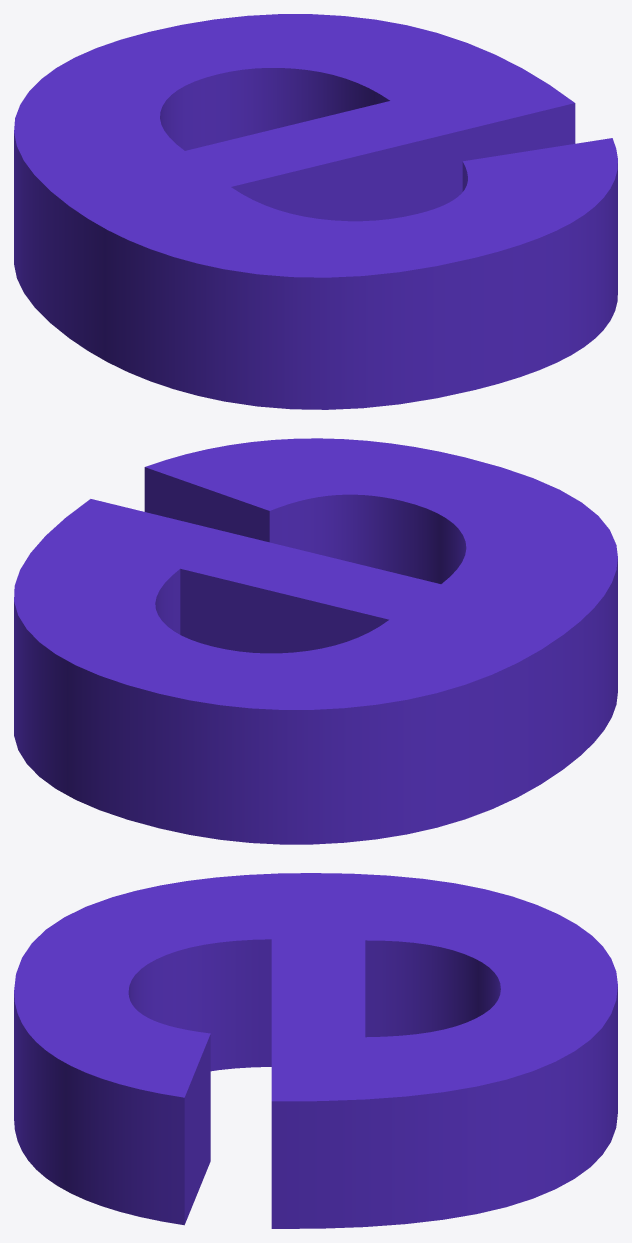
File: huruf e biasa.FBX
3 views of the same model, one above another, from view 1: azimuth 30°, elevation 25°; view 2: azimuth 150°, elevation 25°; view 3: azimuth 270°, elevation 25° (orthographic). The views are drawn at different scales.
Parts seen in each view (by area): view 1: Text001; view 2: Text001; view 3: Text001.
Boxes of the visible parts, box(x1,y1,x2,y2) form: Text001: box(14, 14, 617, 409); Text001: box(14, 438, 617, 844); Text001: box(14, 873, 617, 1228).
Size of the model in its own units: 24.96 by 6.5 by 27.89.
